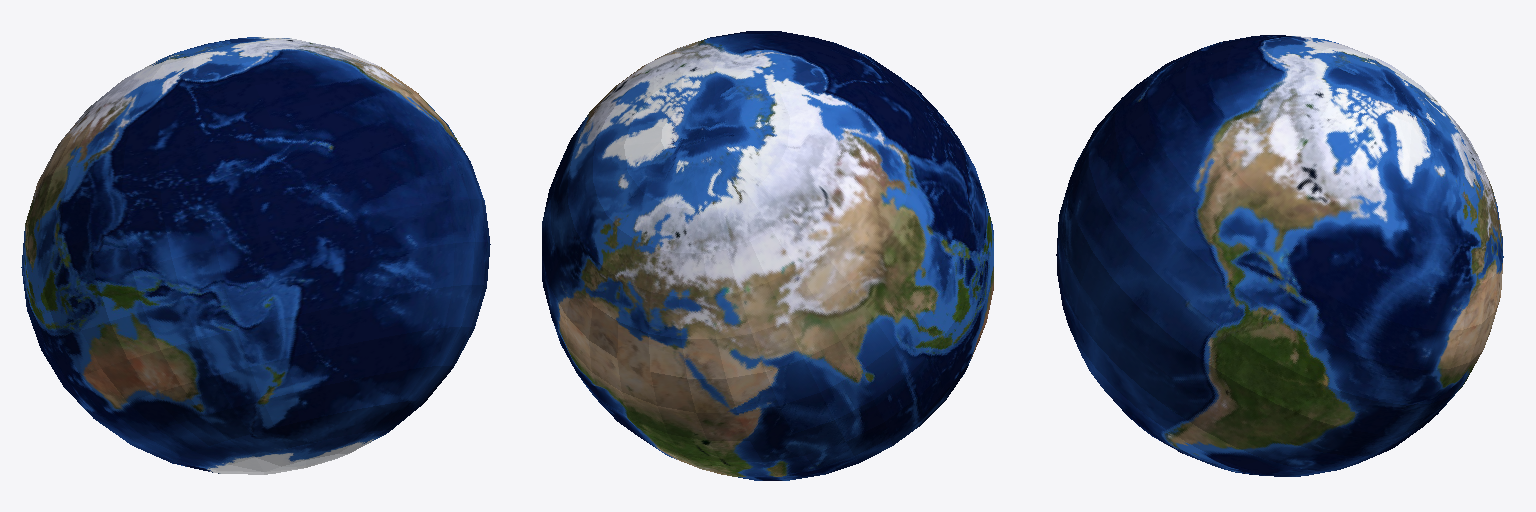
3 views of the same model, side by side, from view 1: azimuth 30°, elevation 25°; view 2: azimuth 150°, elevation 25°; view 3: azimuth 270°, elevation 25° (orthographic).
Visible parts, largest first — view 1: objMesh; view 2: objMesh; view 3: objMesh.
Part boxes in pixels (left/top/right/bottom): objMesh: left=21, top=37, right=490, bottom=474; objMesh: left=542, top=31, right=993, bottom=480; objMesh: left=1056, top=35, right=1503, bottom=476.
Size of the model in its own units: 4.32 by 4.09 by 4.14.
1 materials, 1 textured.